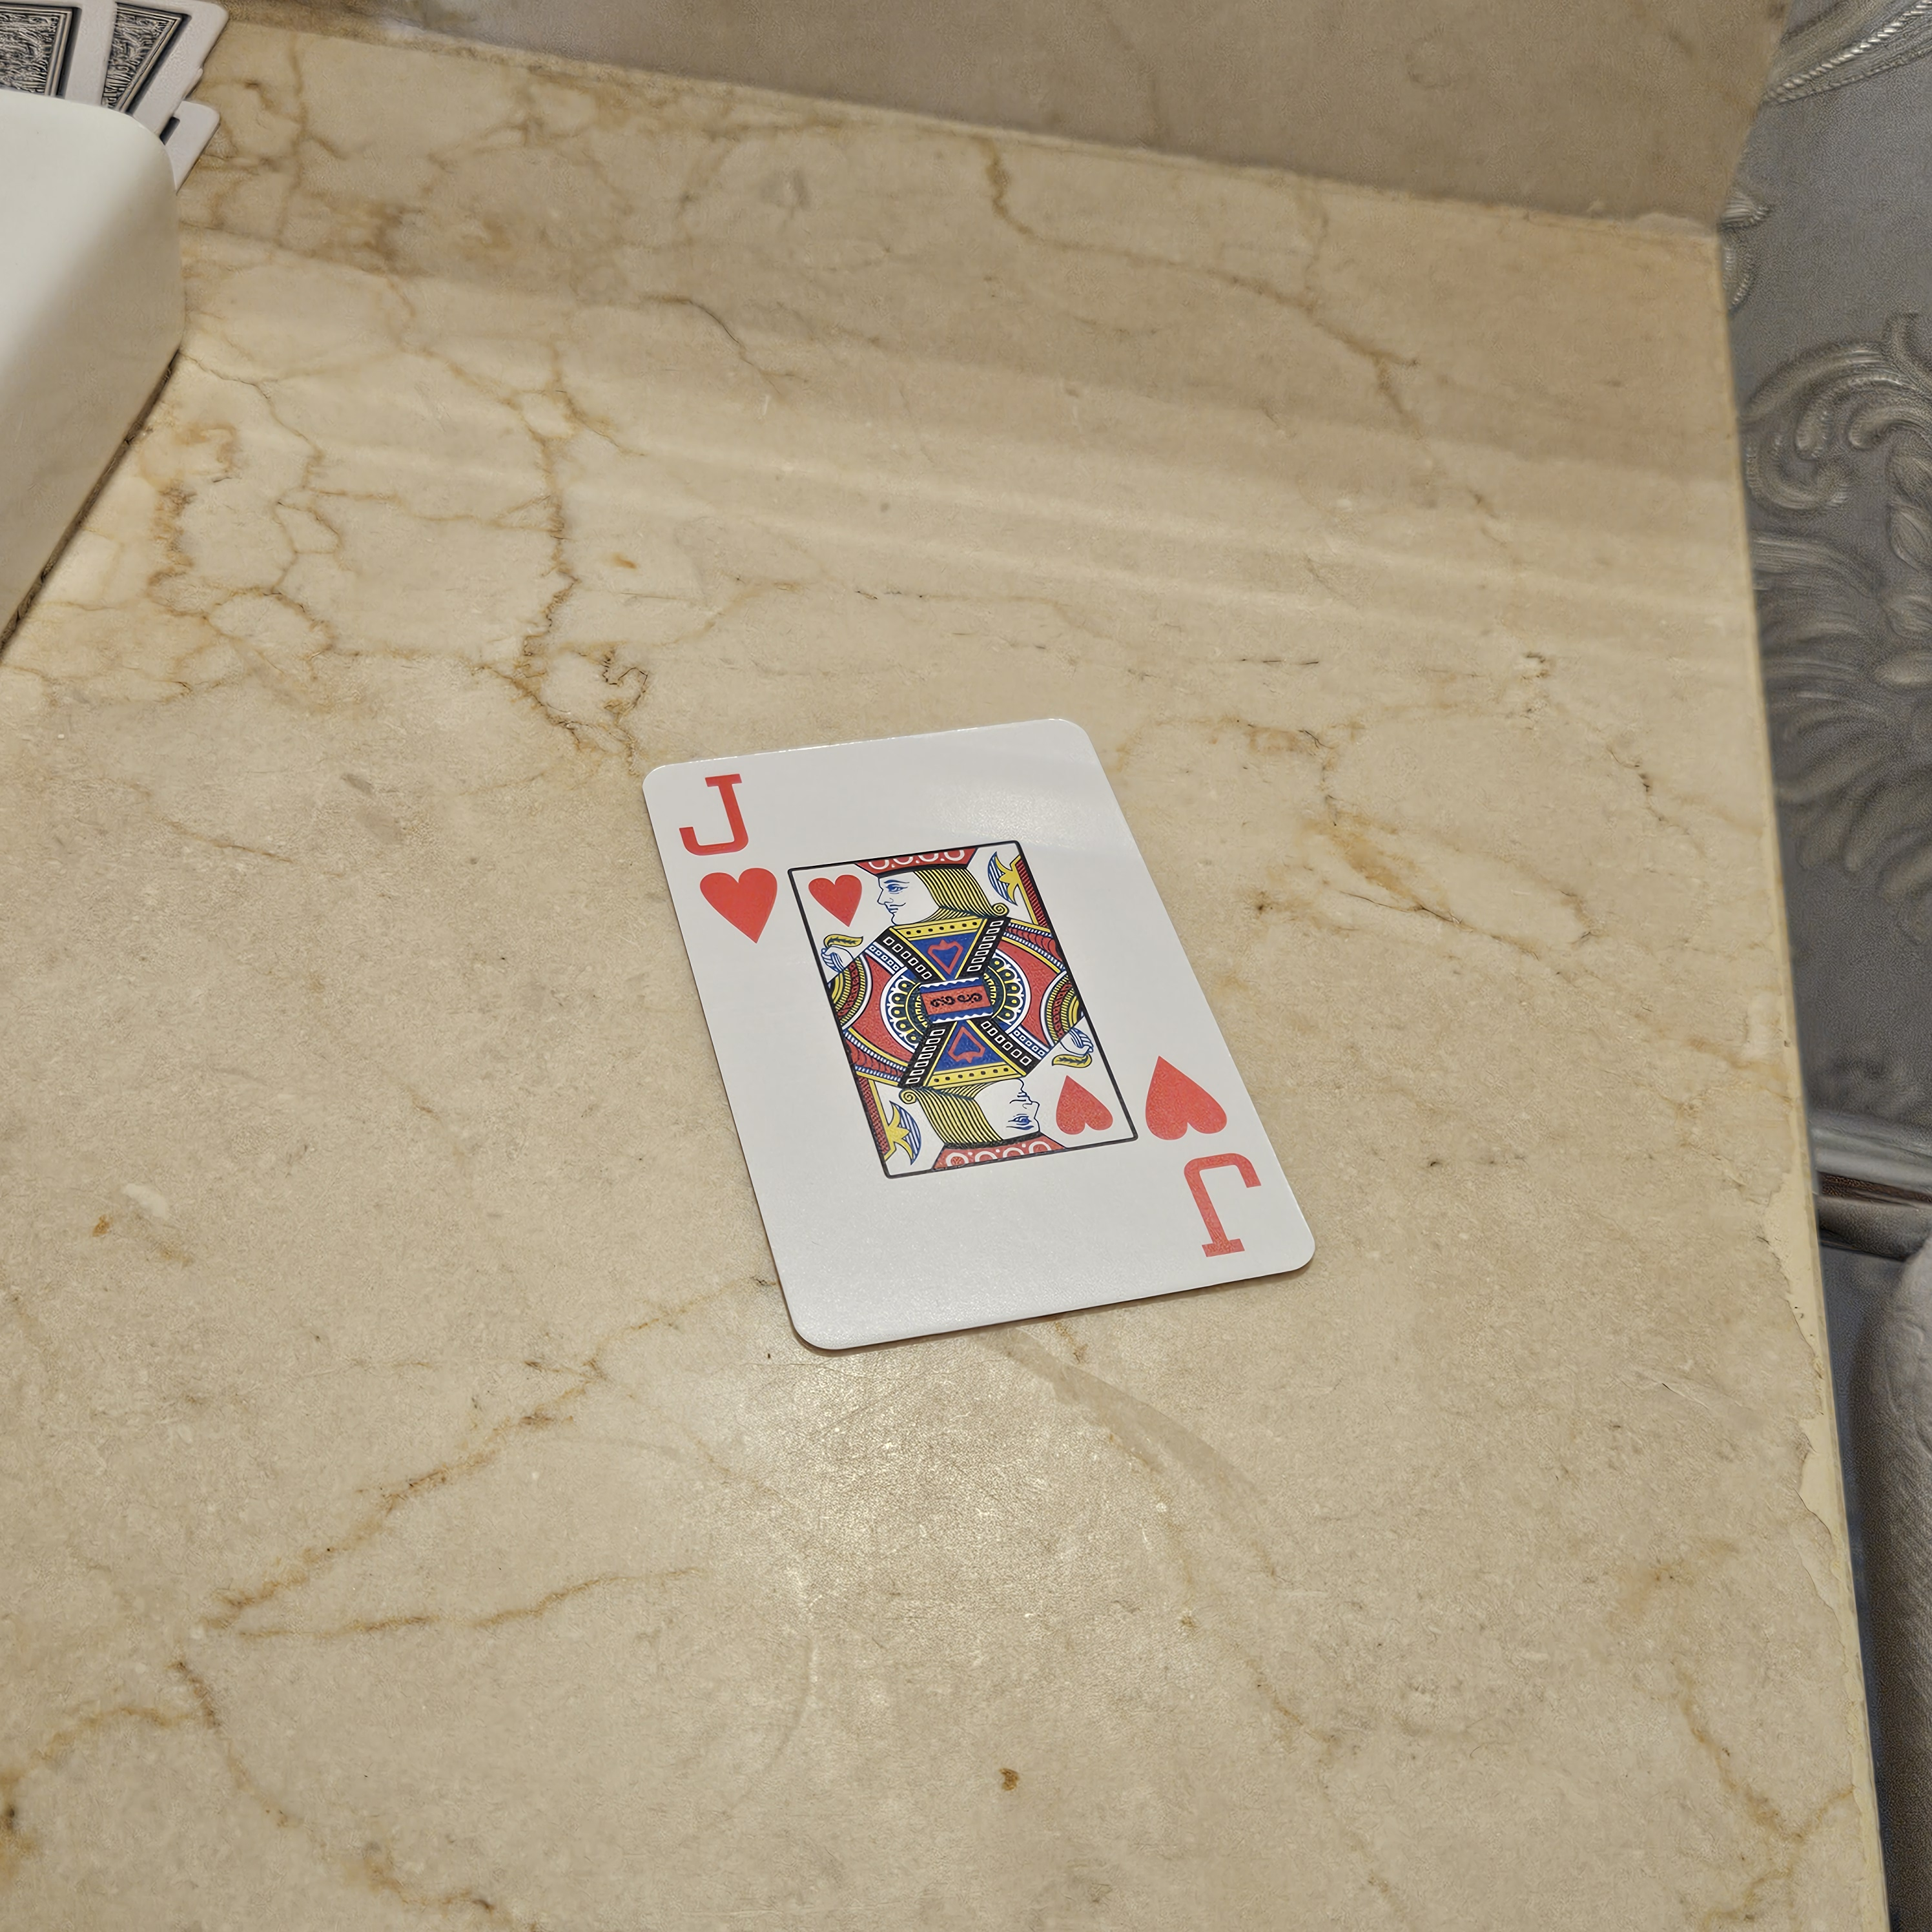JC: (1122, 1035, 1299, 1277), (667, 766, 794, 957)
